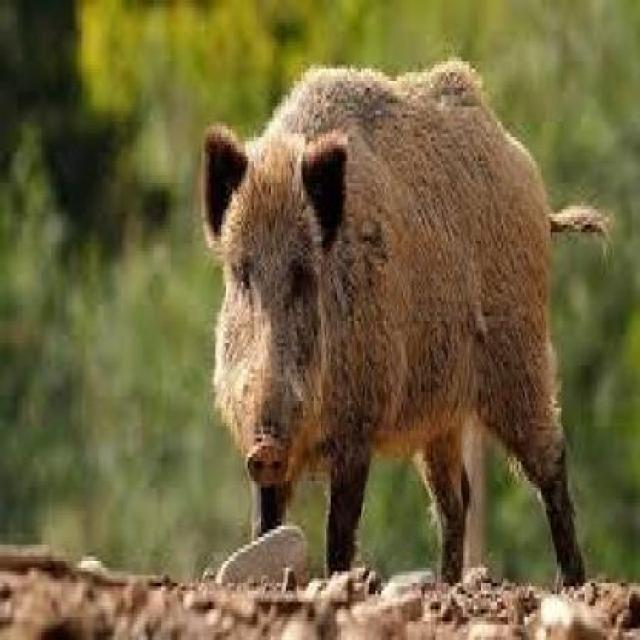wildboar: (193, 52, 619, 600)
